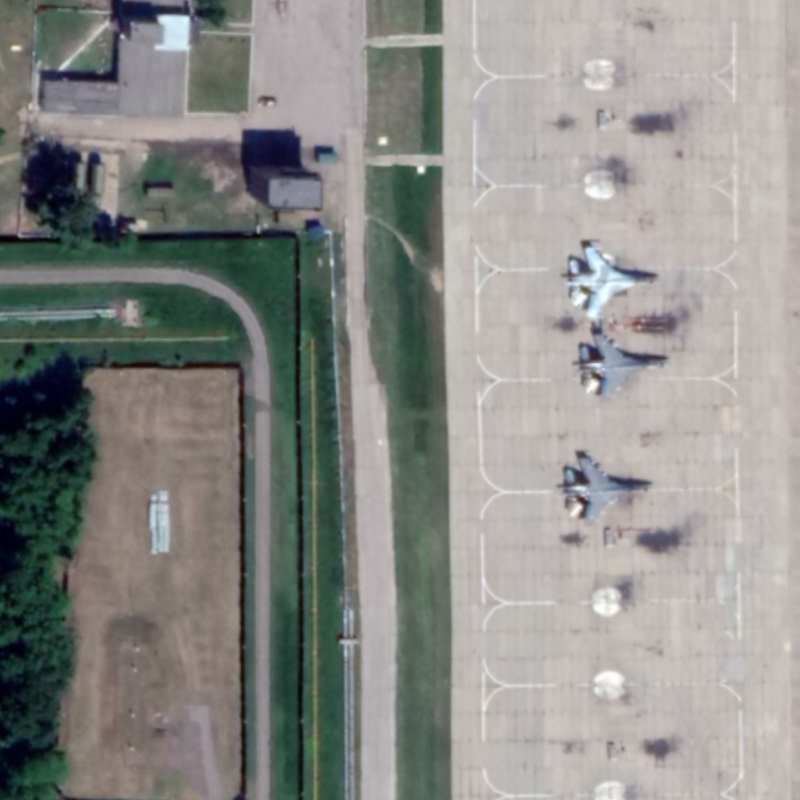A1: (561, 244, 663, 323), (554, 452, 655, 527), (571, 329, 670, 401)
